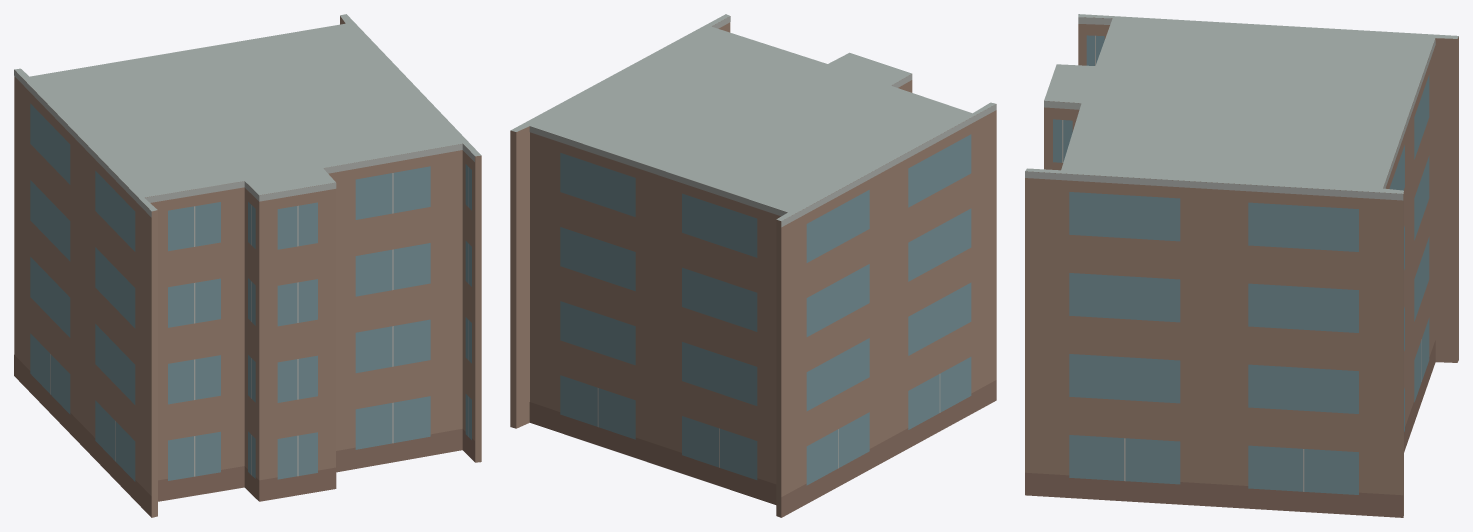
File: survey-upis-32626487.glb
The picture shows the model from 3 angles, left to right: view 1: azimuth 30°, elevation 25°; view 2: azimuth 150°, elevation 25°; view 3: azimuth 270°, elevation 25°; orthographic projection. The views are drawn at different scales.
Parts seen in each view (by area): view 1: survey-upis-32626487.tmp; view 2: survey-upis-32626487.tmp; view 3: survey-upis-32626487.tmp.
Part boxes in pixels (x1,y1,x2,y2): survey-upis-32626487.tmp: [14, 14, 481, 517]; survey-upis-32626487.tmp: [510, 14, 996, 517]; survey-upis-32626487.tmp: [1025, 14, 1458, 517].
Bounding box in the file's own units: 14.05 × 11.8 × 14.32.
